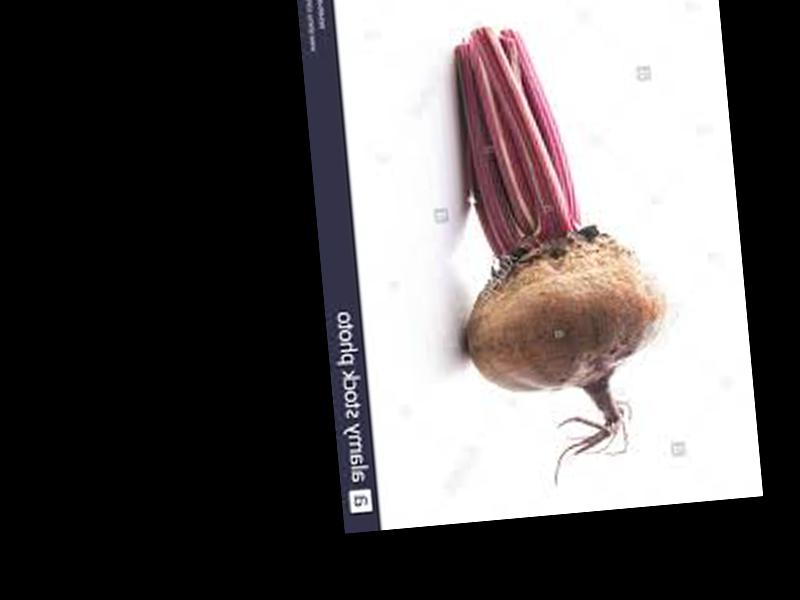Beet: (437, 13, 679, 492)
